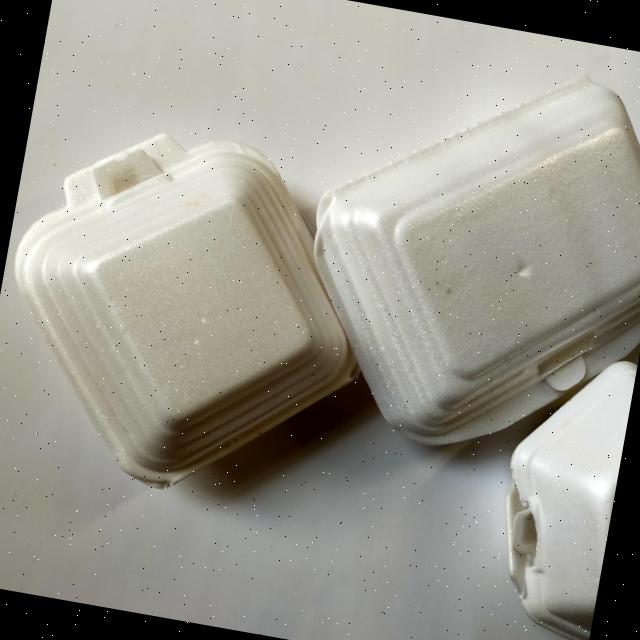styrofoam: (0, 104, 396, 520), (277, 31, 640, 480), (479, 341, 636, 640)
